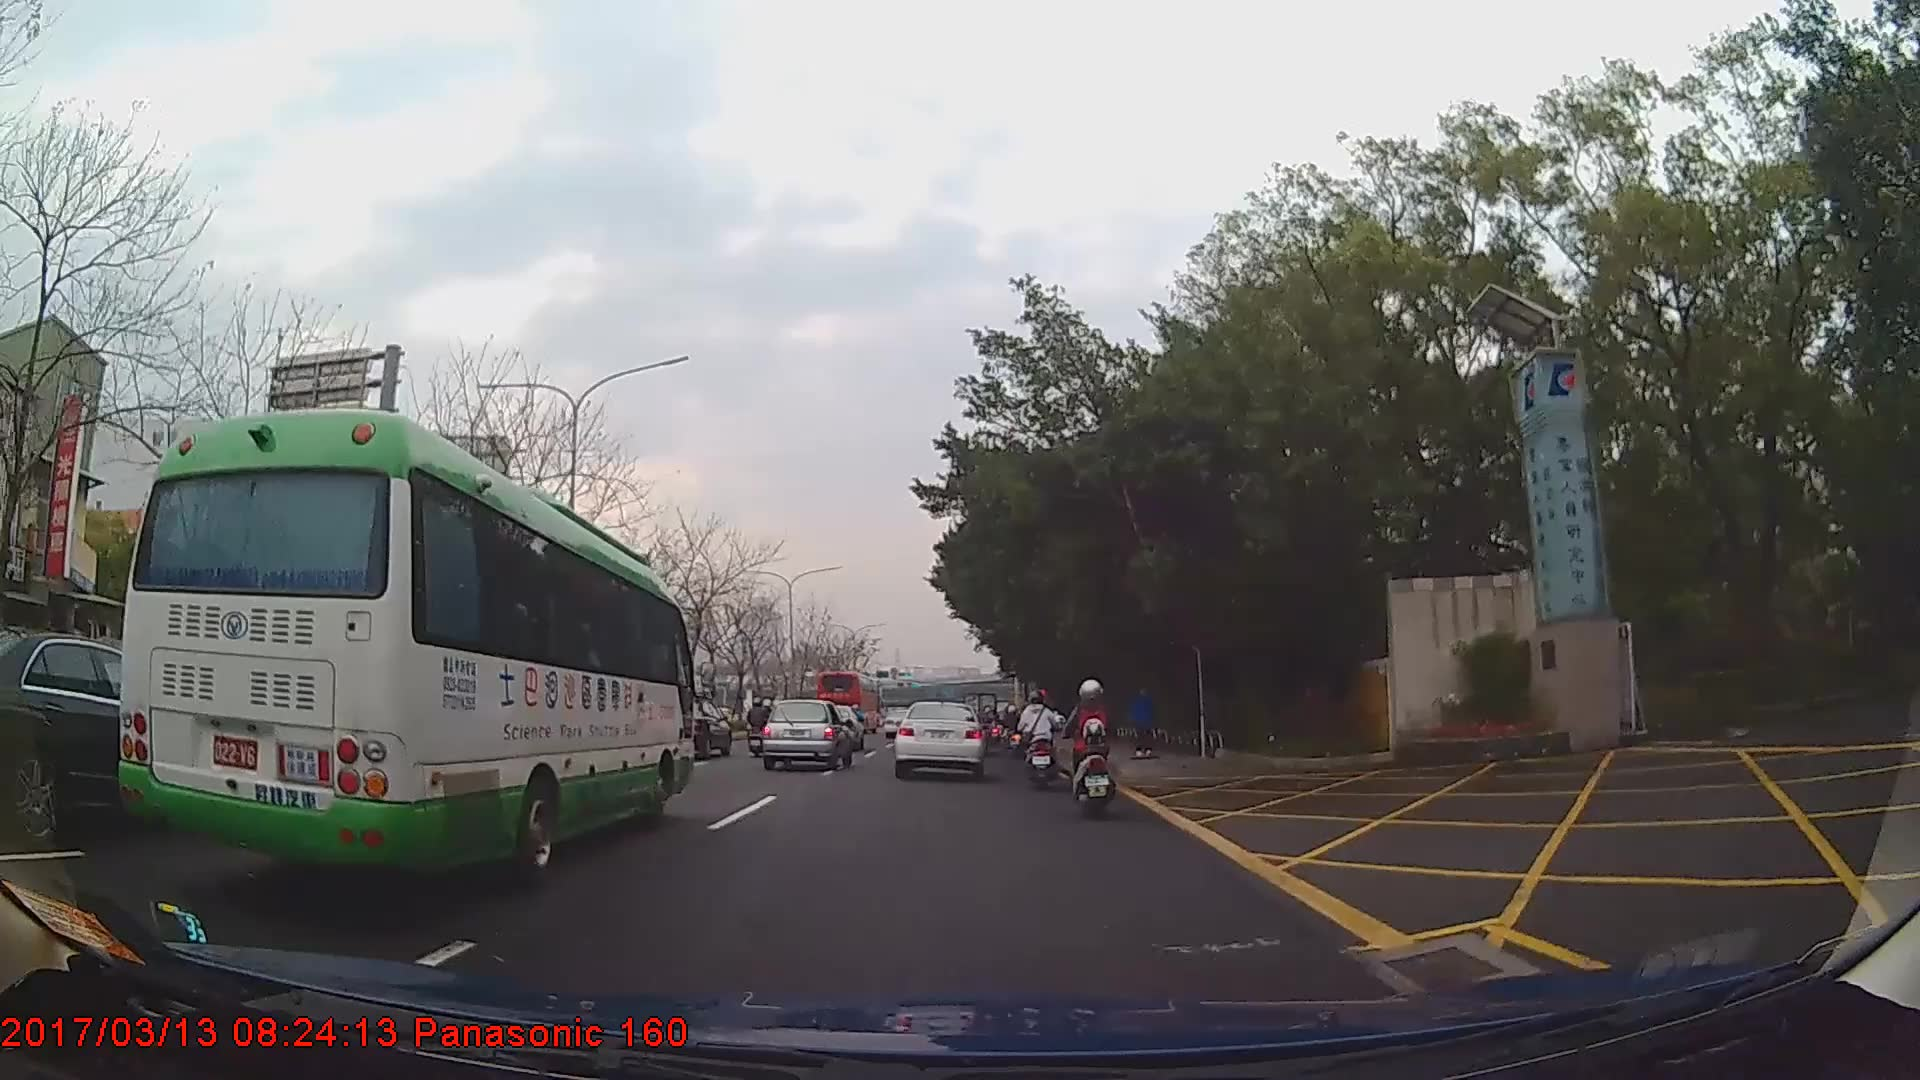pedestrian: (1128, 688, 1156, 759)
rider: (1068, 677, 1117, 817), (1016, 691, 1060, 791), (748, 696, 771, 746)
vehicle: (117, 403, 691, 884), (0, 628, 222, 846), (890, 698, 984, 778), (760, 696, 852, 770), (813, 668, 880, 735)
